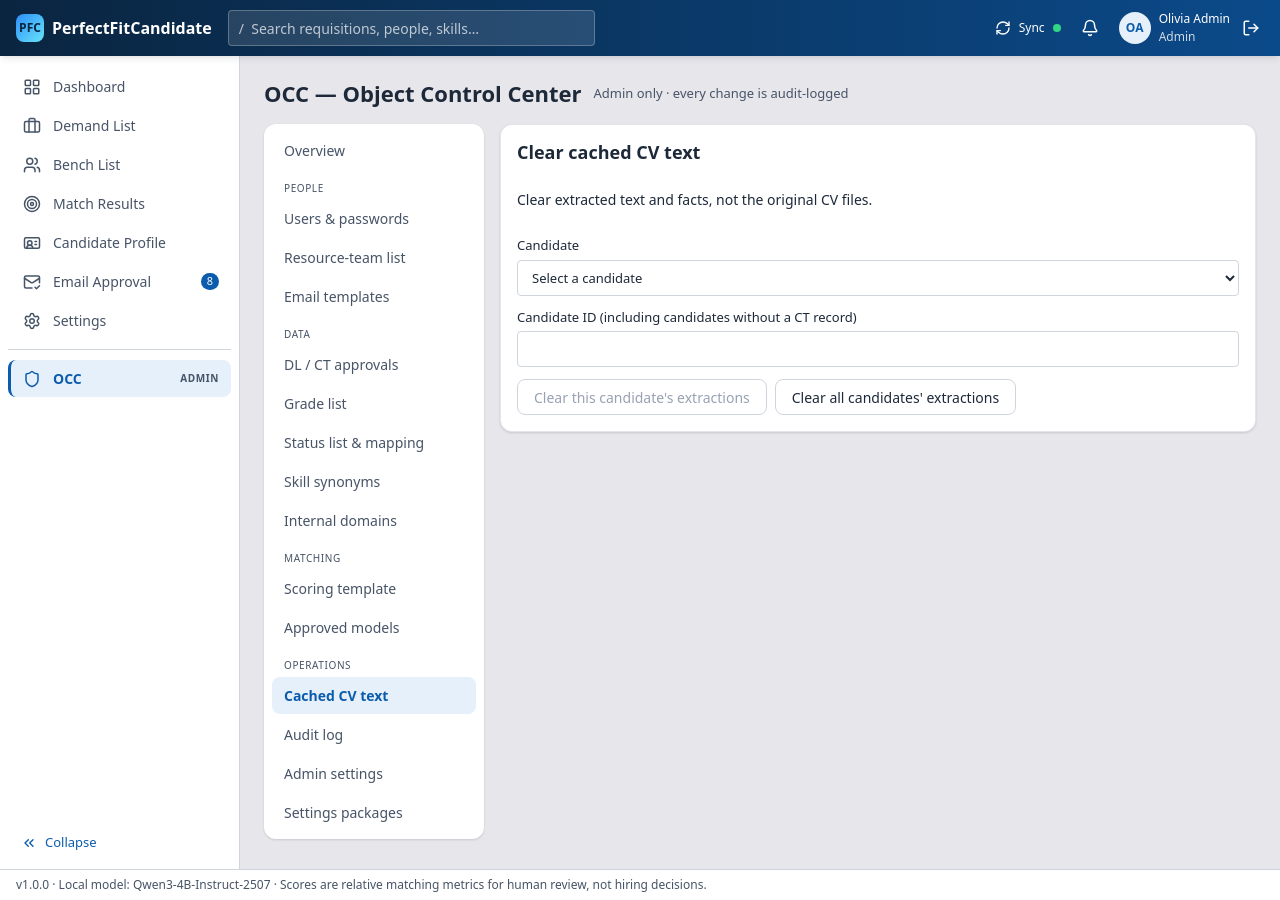
Test case: OCC cached CV text › lists versions and removed flags, cancels safely, then clears and shows every returned count
The width and height of the screenshot is (1280, 900).
Later steps or results of the test are not shown.
Select "Alex Alexander · ALEXANDER · #1" in the dropdown labelled "Candidate": (878, 278) 517,260 -> 1239,296
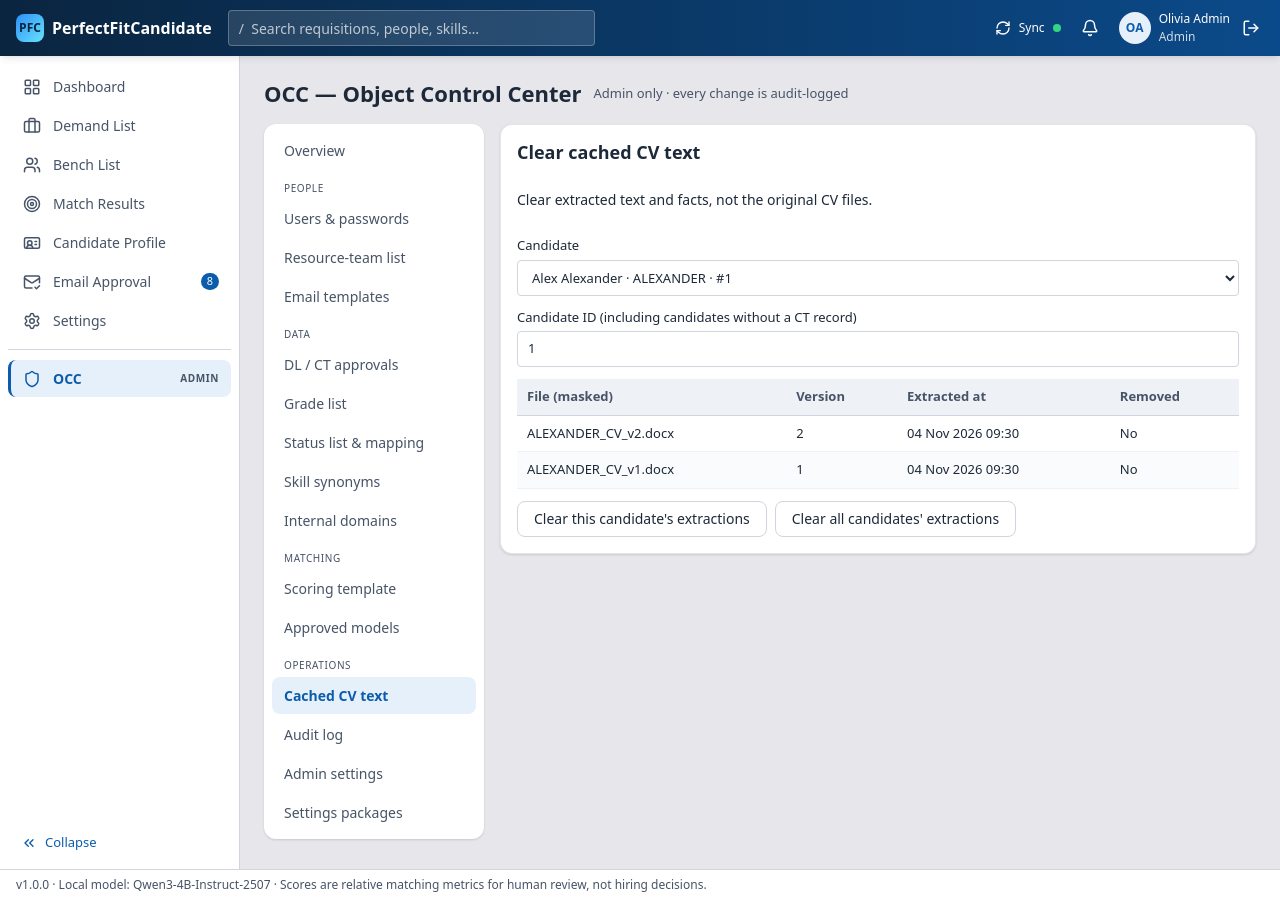
Now the table named "Cached CV extractions" is shown, box 517,379 -> 1239,488
Now the column heading "Extracted at" is shown, box 897,379 -> 1110,416
Click the button "Clear this candidate's extractions": (642, 518) 517,500 -> 767,536
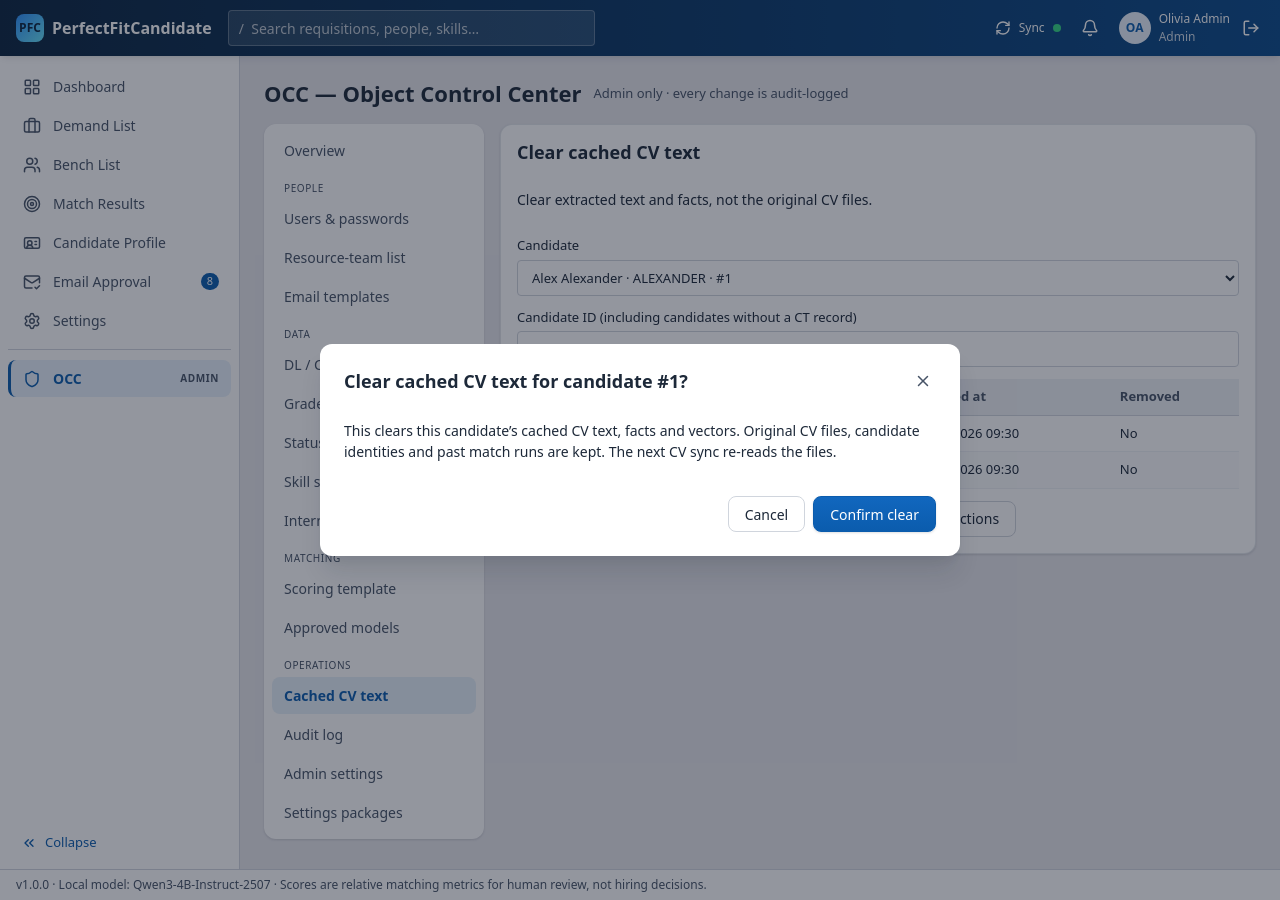
Now the text "The next CV sync re-reads the files" is shown, box 344,421 -> 920,461
